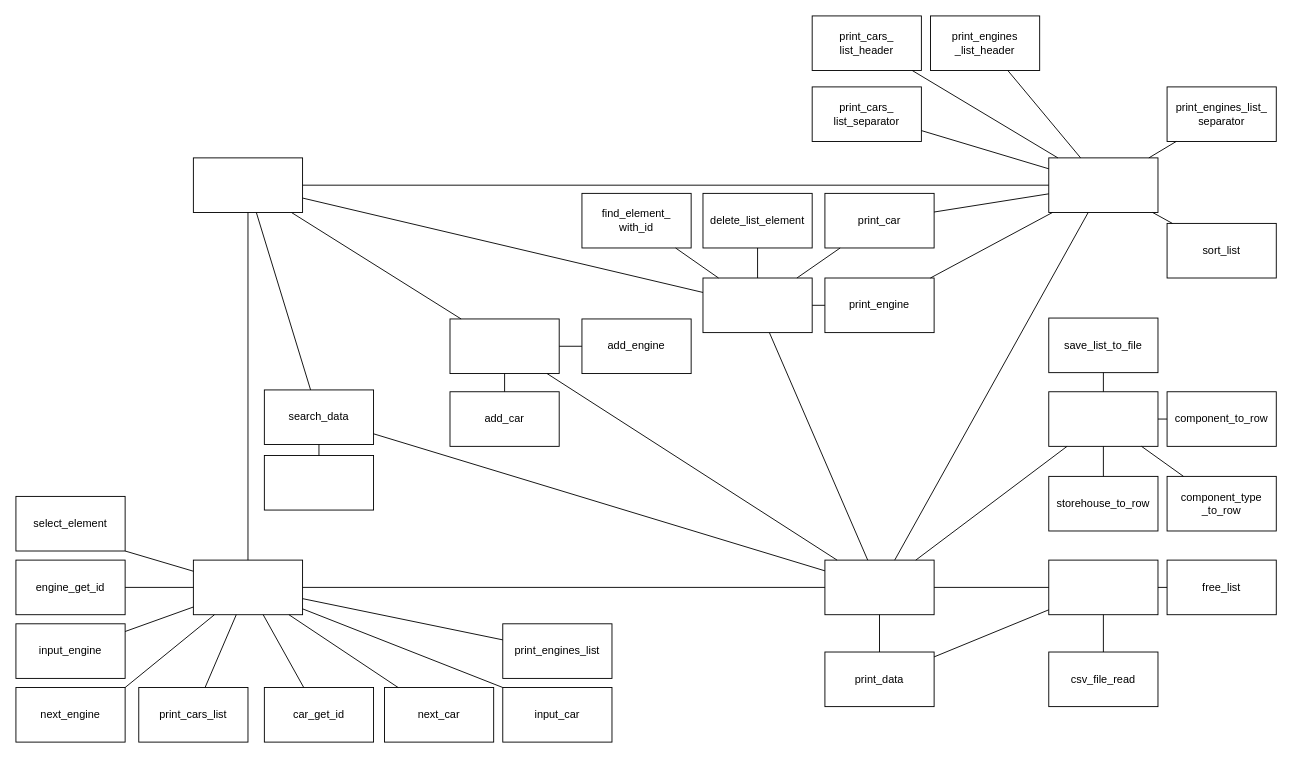
This 1292x758 diagram has some shape labels left out. The shapes that lost their labels are listed below. From the top down, each one's centre as x and y in pixels, then its label:
pixel 247 184: select_prompt
pixel 1103 184: sort_data
pixel 757 305: delete_data
pixel 504 346: add_new_data
pixel 1103 418: exit_handler
pixel 318 482: search
pixel 247 587: edit_data
pixel 879 587: main_menu
pixel 1103 587: main
